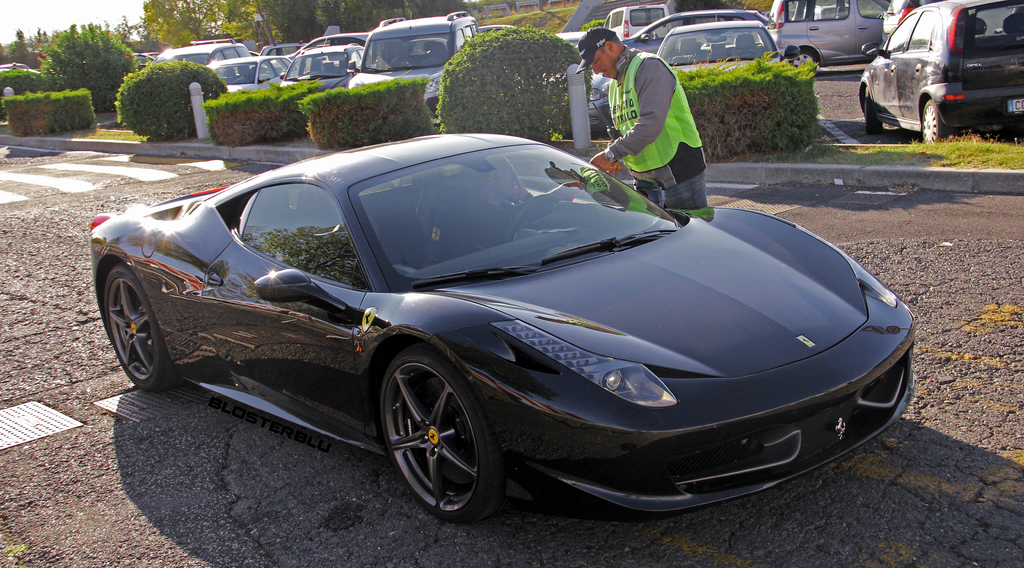cars: (83, 125, 916, 526), (857, 0, 1022, 147), (344, 9, 486, 120), (656, 18, 794, 87), (768, 0, 893, 74), (276, 40, 369, 90), (207, 53, 294, 99), (152, 36, 245, 68)
